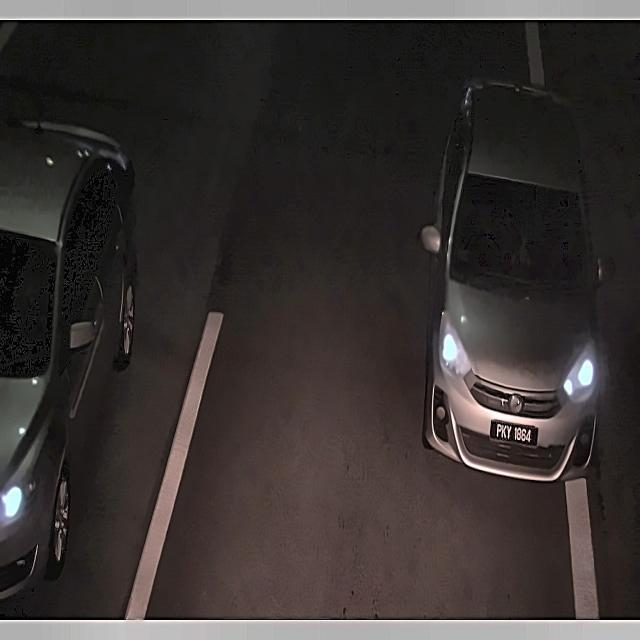car: (490, 419, 539, 449)
